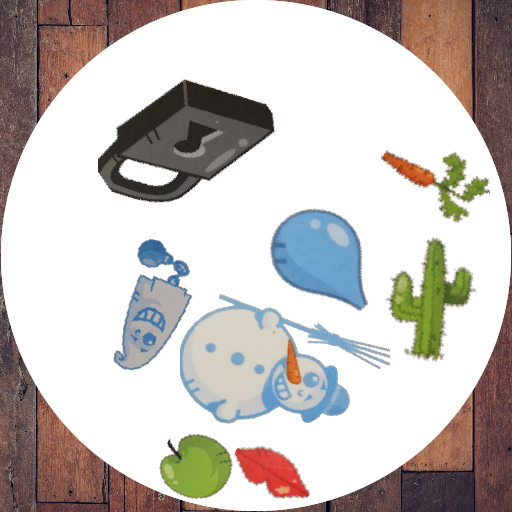apple_icon: (157, 432, 234, 509)
cactus_icon: (363, 237, 492, 366)
carrot_icon: (374, 128, 490, 244)
ghost_icon: (80, 239, 219, 378)
lips_icon: (232, 426, 317, 511)
lock_icon: (98, 56, 275, 233)
raindrop_icon: (263, 202, 384, 323)
snowman_icon: (180, 252, 390, 462)
